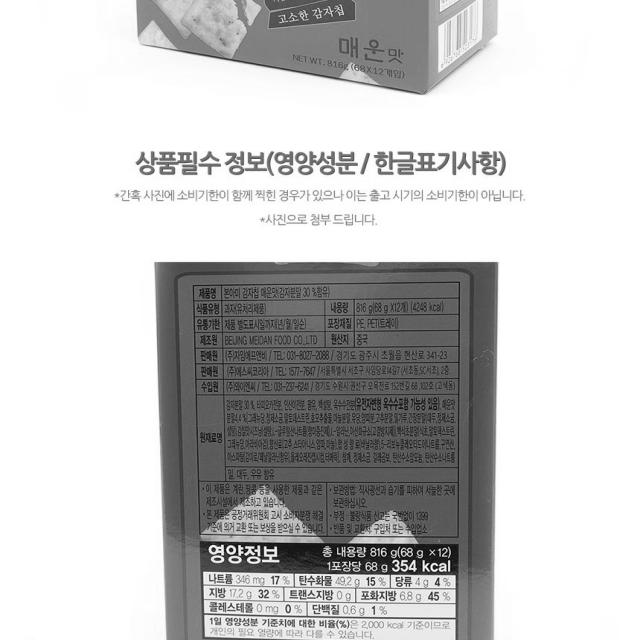Nutrition Label: (192, 535, 470, 640)
